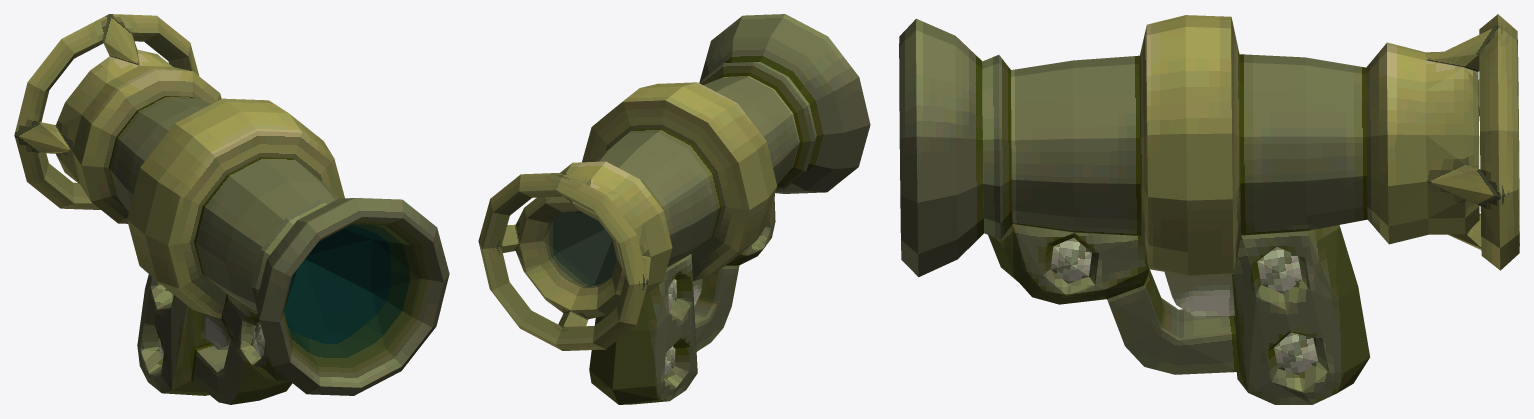
The model's file is Bazooka.obj.
3 views of the same model, side by side, from view 1: azimuth 30°, elevation 25°; view 2: azimuth 150°, elevation 25°; view 3: azimuth 270°, elevation 25° (orthographic). The views are drawn at different scales.
Parts seen in each view (by area): view 1: Inst3D_RefRep.202; view 2: Inst3D_RefRep.202; view 3: Inst3D_RefRep.202.
Boxes of the visible parts, <box> form: Inst3D_RefRep.202: <box>14,14,449,404</box>; Inst3D_RefRep.202: <box>478,14,870,404</box>; Inst3D_RefRep.202: <box>899,14,1519,404</box>.
Size of the model in its own units: 1.63 by 2.55 by 3.87.
